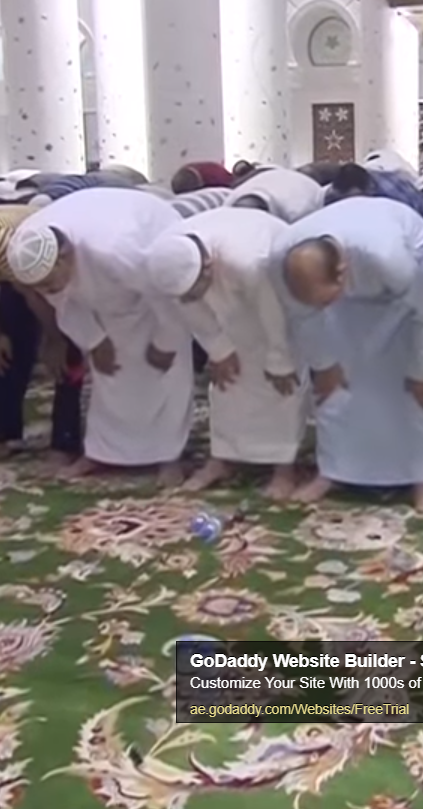ruku: (18, 146, 199, 499), (134, 164, 307, 523), (280, 186, 423, 488)
